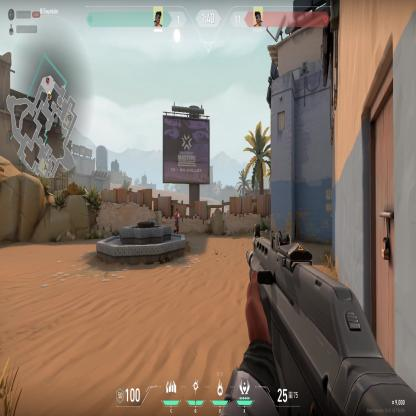enemy: (172, 206, 181, 234)
